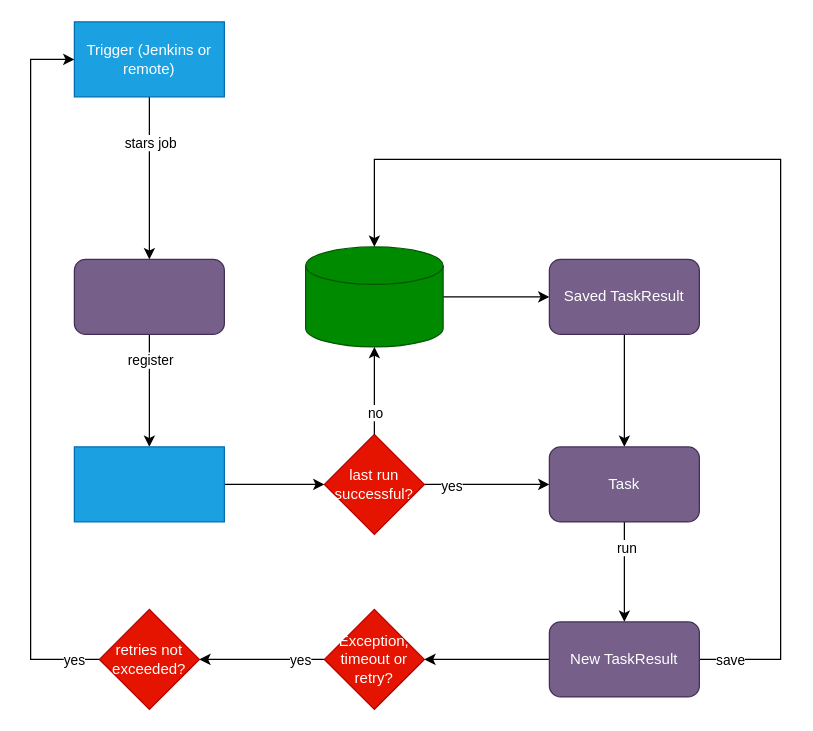
The diagram is 813 pixels wide and 731 high, and some of its shapes have lost their labels. The centre of each missing label's shape, as x and y in pixels:
Executor: the point at 148,296
query if last task run succesful: the point at 148,484
TaskResult DB: the point at 373,296
